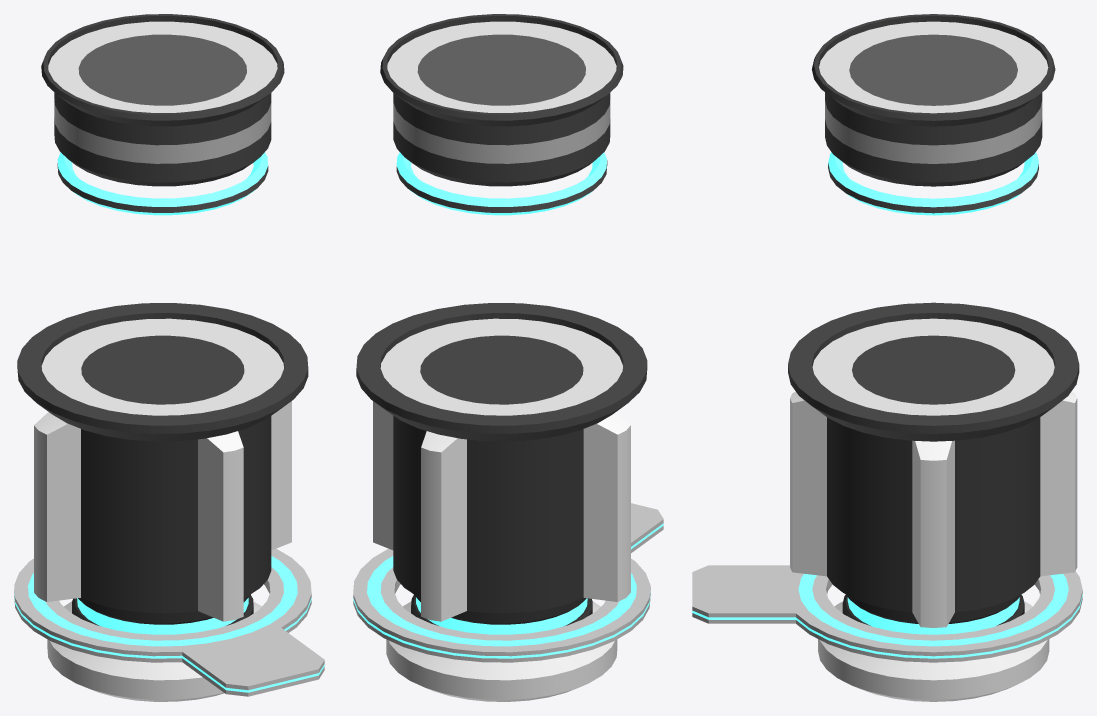
The model's file is Tower.fbx.
The picture shows the model from 3 angles, left to right: view 1: azimuth 30°, elevation 25°; view 2: azimuth 150°, elevation 25°; view 3: azimuth 270°, elevation 25°; orthographic projection.
Visible parts, largest first — view 1: Tower1_FirstFloor, Tower1_FirstFloor.001, Tower1_SpiningPart; view 2: Tower1_FirstFloor, Tower1_FirstFloor.001, Tower1_SpiningPart; view 3: Tower1_FirstFloor, Tower1_FirstFloor.001, Tower1_SpiningPart.
Part boxes in pixels (left/top/right/bottom): Tower1_FirstFloor: left=17, top=303, right=308, bottom=701; Tower1_FirstFloor.001: left=41, top=14, right=284, bottom=215; Tower1_SpiningPart: left=14, top=548, right=324, bottom=696; Tower1_FirstFloor: left=356, top=303, right=647, bottom=701; Tower1_FirstFloor.001: left=380, top=14, right=623, bottom=215; Tower1_SpiningPart: left=353, top=503, right=663, bottom=662; Tower1_FirstFloor: left=788, top=302, right=1079, bottom=701; Tower1_FirstFloor.001: left=812, top=14, right=1055, bottom=215; Tower1_SpiningPart: left=692, top=565, right=1082, bottom=662.
Size of the model in its own units: 12.76 by 28.03 by 16.71.
1 material, 1 textured.
